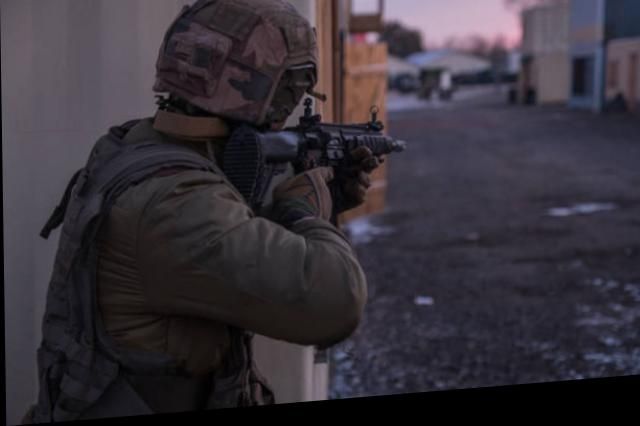other: (25, 0, 364, 420)
